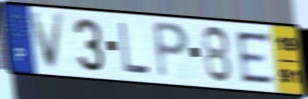3: (71, 16, 107, 74)
8: (200, 25, 234, 86)
E: (233, 30, 278, 85)
L: (117, 21, 153, 77)
P: (151, 19, 192, 82)
V: (28, 11, 68, 72)
